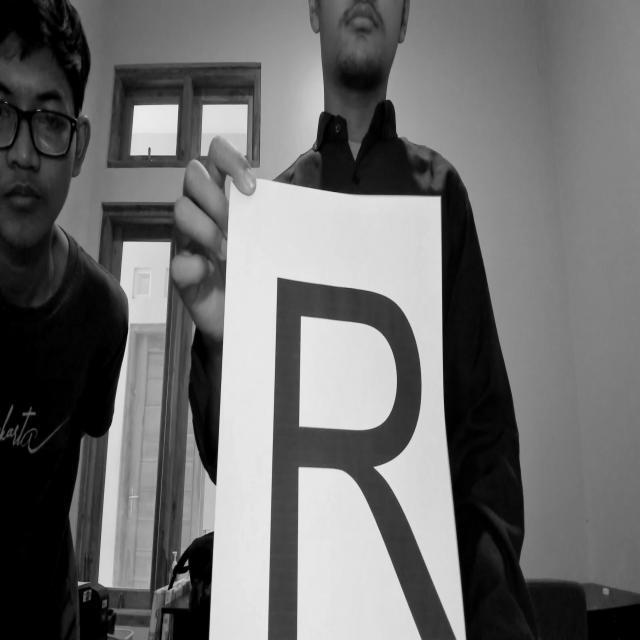r: (257, 266, 495, 640)
